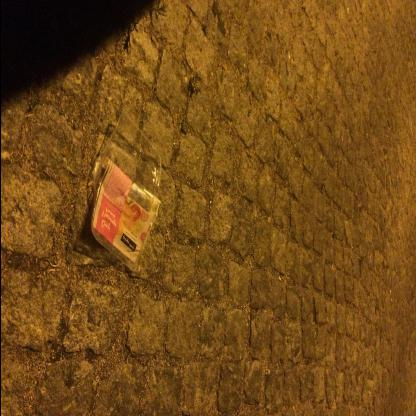plastik: (86, 112, 160, 270)
